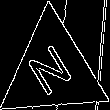N_SE: (25, 38, 81, 103)
